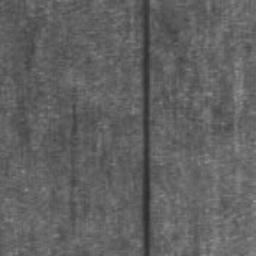Scratches: (139, 0, 151, 256)
